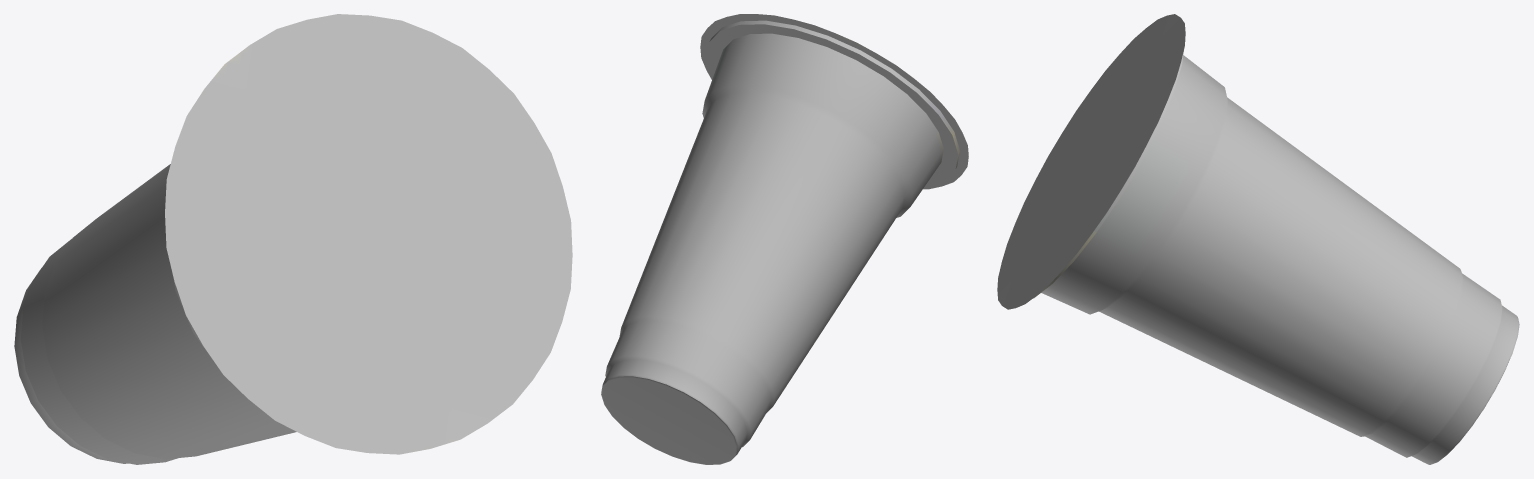
The model's file is BFCornJuice.obj.
3 renders of one model, left to right at view 1: azimuth 30°, elevation 25°; view 2: azimuth 150°, elevation 25°; view 3: azimuth 270°, elevation 25°, orthographic. The views are drawn at different scales.
Visible parts, largest first — view 1: yumizhi; view 2: yumizhi; view 3: yumizhi.
Boxes of the visible parts, x1,y1,x2,y2 form: yumizhi: [14, 14, 572, 464]; yumizhi: [601, 14, 968, 464]; yumizhi: [997, 14, 1519, 464].
Size of the model in its own units: 1.22 by 1.67 by 1.88.
